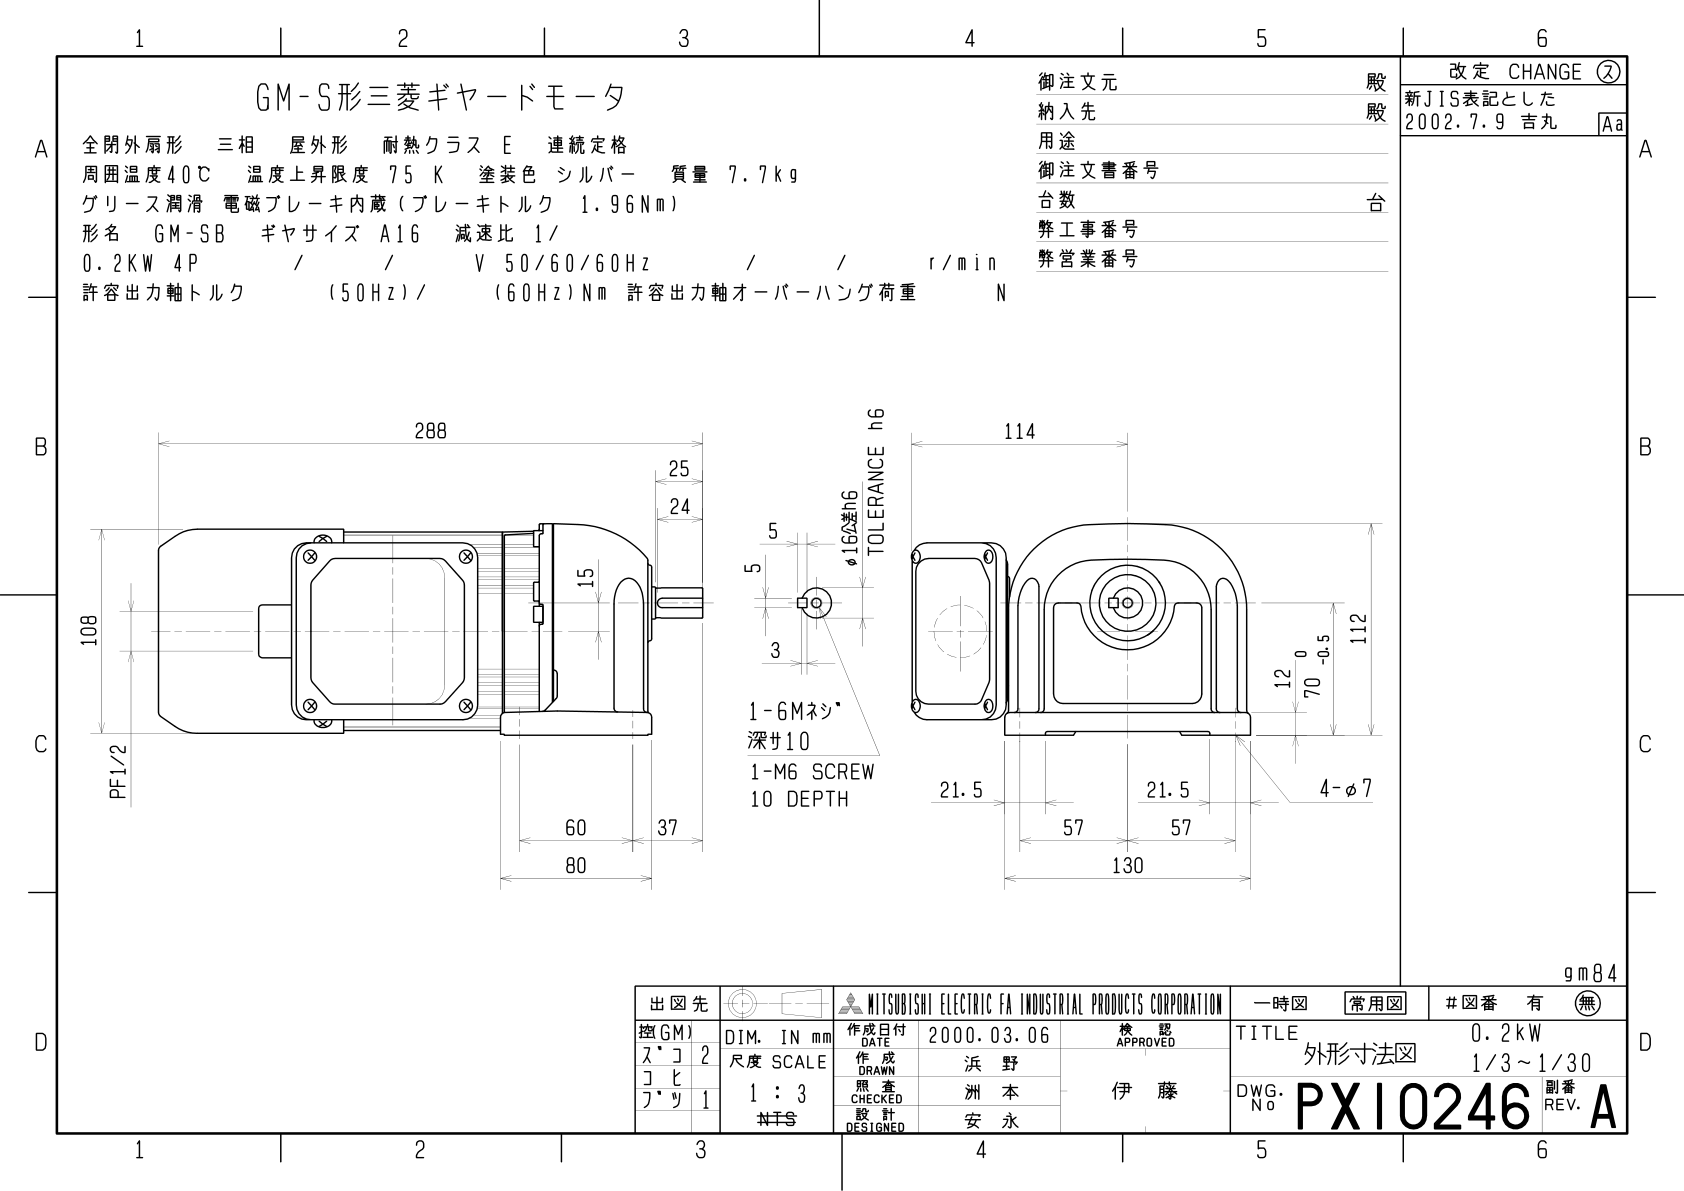GM_S_屋外＿三相_脚: (58, 382, 1393, 947)
